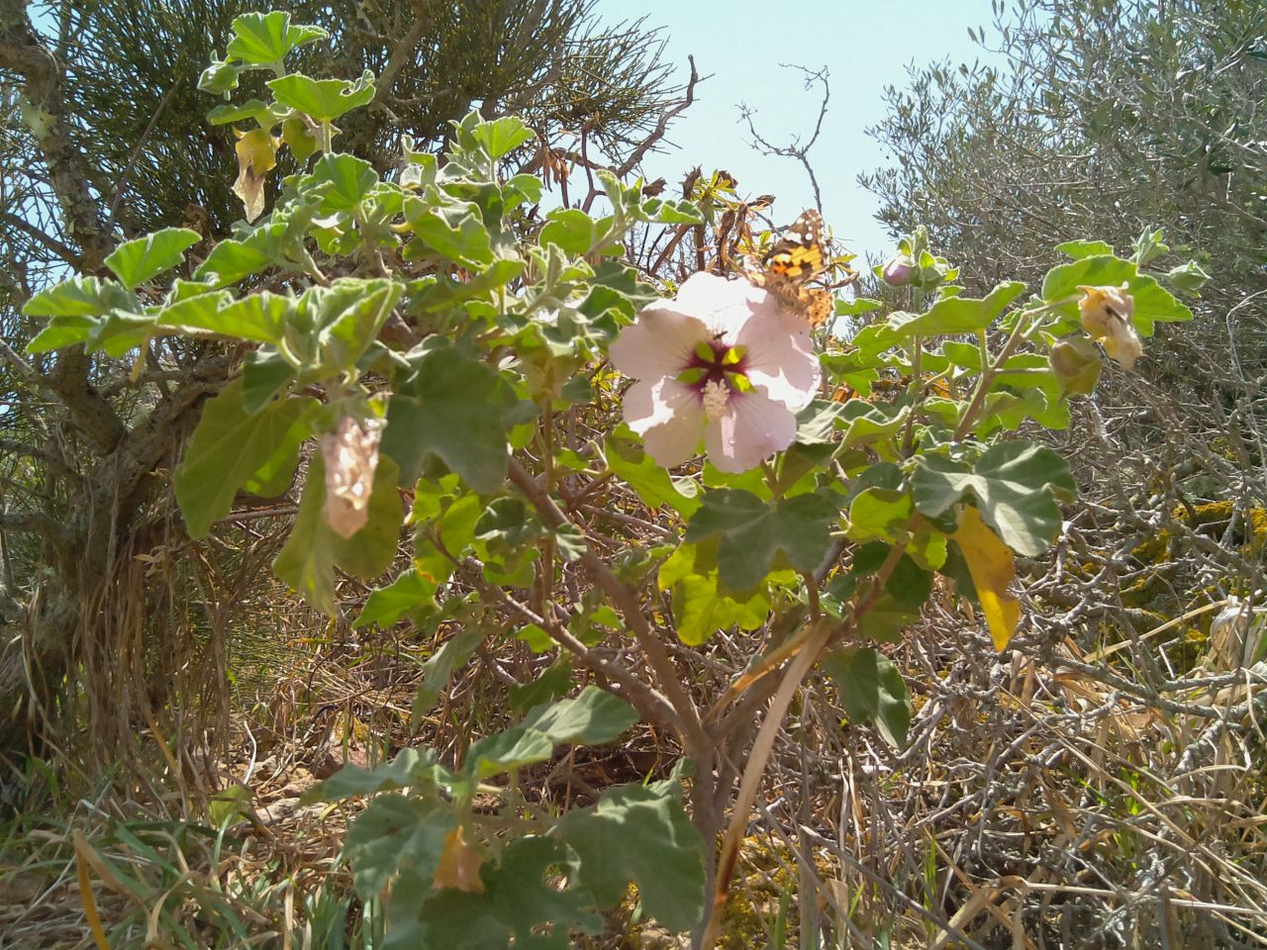Vanessa cardui: (750, 198, 866, 367)
